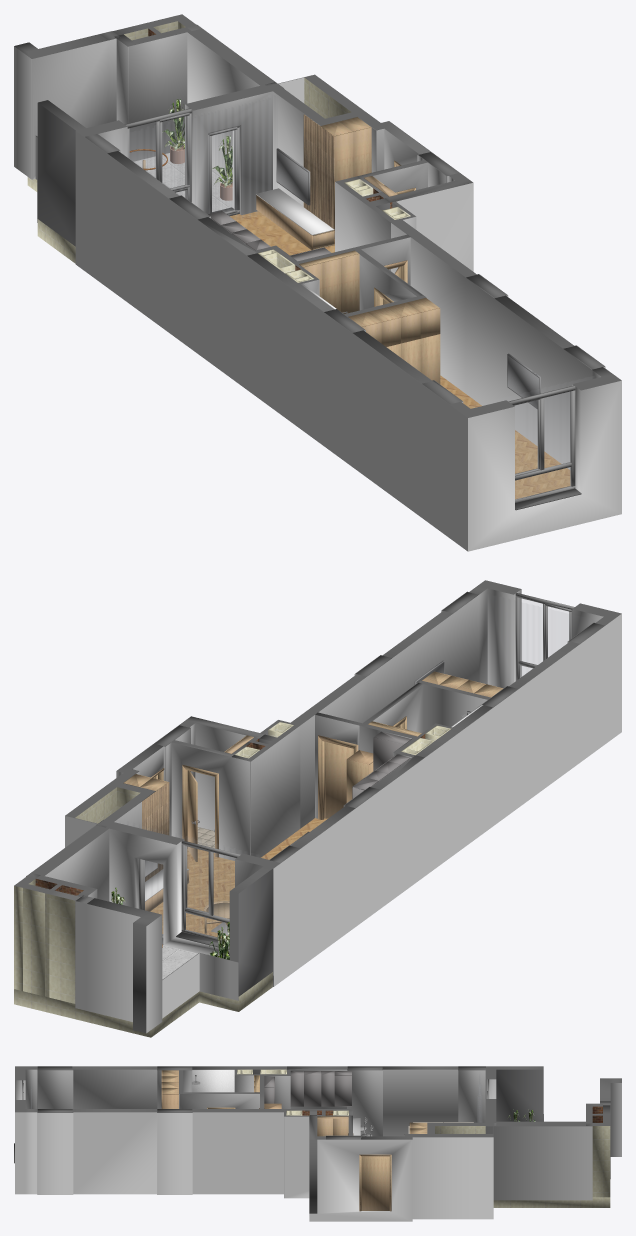
3 renders of one model, top to bottom at view 1: azimuth 30°, elevation 25°; view 2: azimuth 150°, elevation 25°; view 3: azimuth 270°, elevation 25°, orthographic. The views are drawn at different scales.
Visible parts, largest first — view 1: Поверх.-Гипс штукатур. белый, Краска-01, _Фасад_Стіни, Краска-04, Стекло - Голубое, Дерево - Сосна Продольная Горизонтальная, Краска - Темно-Серая, Fйm-rozsdamentes acйl, Паркет - 01 (копия), Бетон - 02, _Ламінат Egger дуб тосколано, Металл-Нержавеющая сталь (+4 smaller); view 2: Поверх.-Гипс штукатур. белый, _Фасад_Стіни, Краска-04, Бетон - 02, Краска-01, Дерево - Сосна Продольная Горизонтальная, Стекло - Голубое, Fйm-rozsdamentes acйl, Паркет - 01 (копия), Краска - Темно-Серая, Металл-Алюминий, _Ламінат Egger дуб тосколано (+1 smaller); view 3: Поверх.-Гипс штукатур. белый, _Фасад_Стіни, Краска-04, Дерево - Сосна Продольная Горизонтальная, Бетон - 02, Fйm-rozsdamentes acйl, Металл-Алюминий, Штукатурка - Шероховатая Белая, Краска-01, Кирпич - Старый Натуральный.
Boxes of the visible parts, bbox=[...] form: Поверх.-Гипс штукатур. белый: bbox=[35, 77, 605, 551]; Краска-01: bbox=[14, 32, 621, 551]; _Фасад_Стіни: bbox=[98, 91, 600, 469]; Краска-04: bbox=[14, 14, 621, 417]; Стекло - Голубое: bbox=[129, 98, 570, 499]; Дерево - Сосна Продольная Горизонтальная: bbox=[256, 117, 440, 384]; Краска - Темно-Серая: bbox=[125, 108, 575, 502]; Fйm-rozsdamentes acйl: bbox=[37, 103, 397, 246]; Паркет - 01 (копия): bbox=[230, 211, 570, 499]; Бетон - 02: bbox=[27, 21, 410, 282]; _Ламінат Egger дуб тосколано: bbox=[303, 114, 334, 229]; Металл-Нержавеющая сталь: bbox=[276, 148, 540, 409]; Поверх.-Гипс штукатур. белый: bbox=[65, 610, 621, 1018]; _Фасад_Стіни: bbox=[75, 588, 603, 1021]; Краска-04: bbox=[14, 580, 621, 1033]; Бетон - 02: bbox=[14, 721, 451, 1037]; Краска-01: bbox=[45, 589, 521, 1033]; Дерево - Сосна Продольная Горизонтальная: bbox=[123, 671, 503, 911]; Стекло - Голубое: bbox=[119, 599, 568, 937]; Fйm-rozsdamentes acйl: bbox=[238, 730, 272, 1000]; Паркет - 01 (копия): bbox=[150, 818, 327, 938]; Краска - Темно-Серая: bbox=[139, 593, 574, 941]; Металл-Алюминий: bbox=[352, 731, 410, 798]; _Ламінат Egger дуб тосколано: bbox=[142, 782, 169, 881]; Поверх.-Гипс штукатур. белый: bbox=[15, 1112, 493, 1221]; _Фасад_Стіни: bbox=[23, 1069, 621, 1200]; Краска-04: bbox=[15, 1066, 621, 1213]; Дерево - Сосна Продольная Горизонтальная: bbox=[161, 1070, 427, 1211]; Бетон - 02: bbox=[237, 1069, 610, 1207]; Fйm-rozsdamentes acйl: bbox=[253, 1069, 543, 1121]; Металл-Алюминий: bbox=[264, 1071, 351, 1106]; Штукатурка - Шероховатая Белая: bbox=[192, 1069, 234, 1092]; Краска-01: bbox=[15, 1079, 496, 1099]; Кирпич - Старый Натуральный: bbox=[302, 1106, 602, 1122].
Size of the model in its own units: 5.98 by 3.11 by 20.85.
36 materials, 15 textured.
